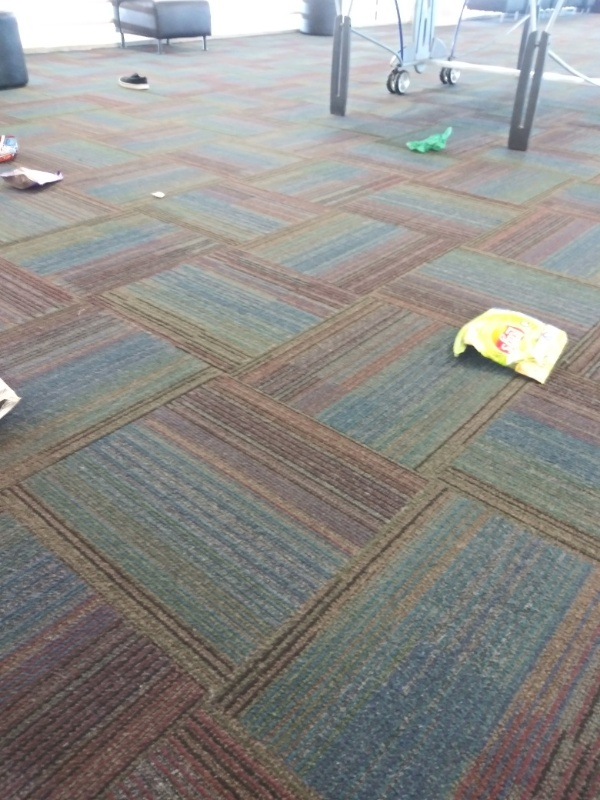bag: (449, 304, 573, 390), (1, 164, 73, 193), (1, 367, 26, 431), (1, 127, 24, 162)
